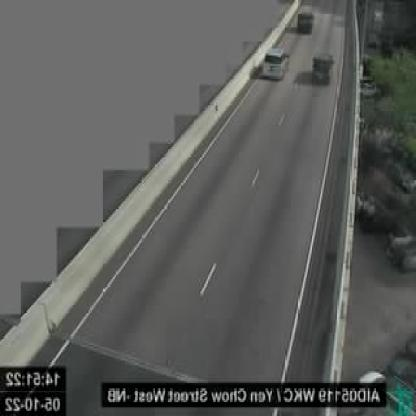Car: (261, 47, 289, 76), (312, 54, 335, 86), (295, 9, 315, 33)
